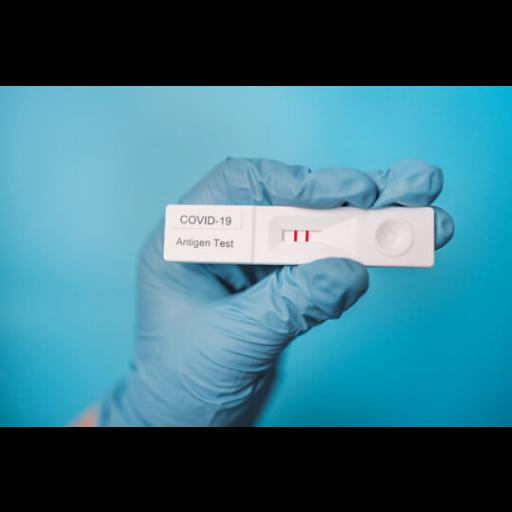Pos: (164, 203, 438, 265)
